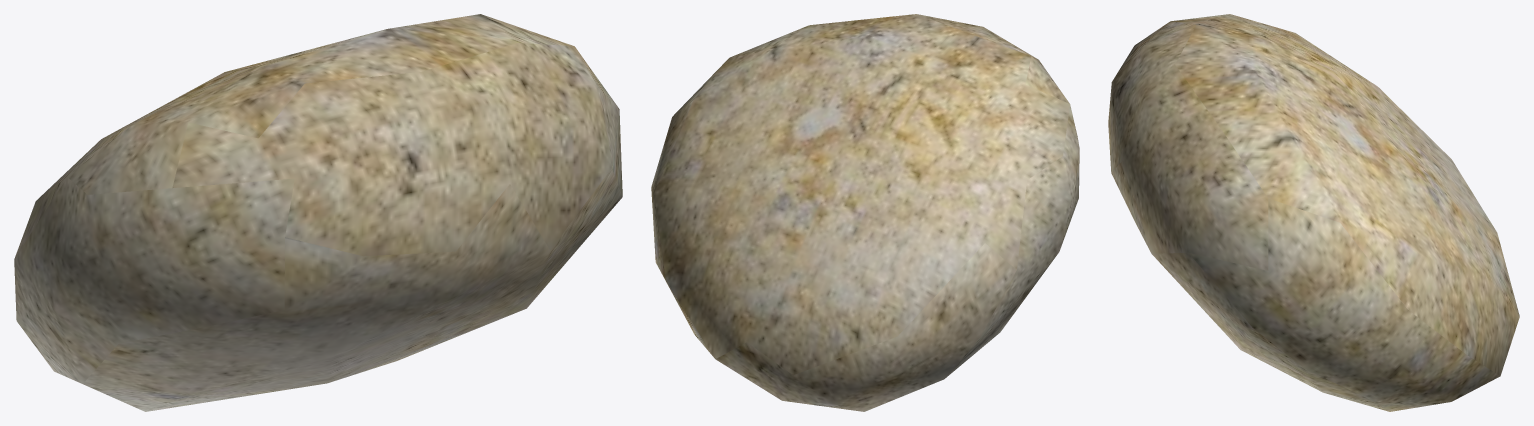
File: rock077.glb
The picture shows the model from 3 angles, left to right: view 1: azimuth 30°, elevation 25°; view 2: azimuth 150°, elevation 25°; view 3: azimuth 270°, elevation 25°; orthographic projection. The views are drawn at different scales.
Visible parts, largest first — view 1: rock077; view 2: rock077; view 3: rock077.
Part boxes in pixels (box(x1,y1,x2,y2)): rock077: box(14, 14, 622, 411); rock077: box(651, 14, 1079, 411); rock077: box(1108, 14, 1519, 411).
Bounding box in the file's own units: 0.9902 × 0.7218 × 0.8244.
1 material, 1 textured.
